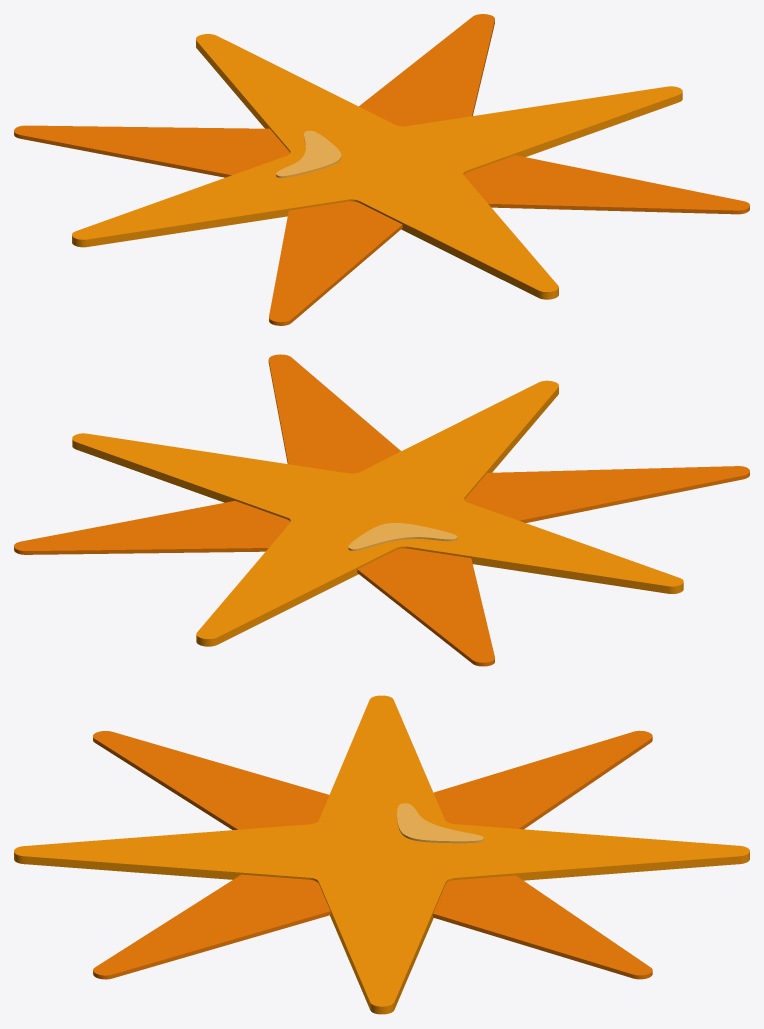
The model's file is emoji_u2734.glb.
3 renders of one model, top to bottom at view 1: azimuth 30°, elevation 25°; view 2: azimuth 150°, elevation 25°; view 3: azimuth 270°, elevation 25°, orthographic. The views are drawn at different scales.
Visible parts, largest first — view 1: emoji_u2734; view 2: emoji_u2734; view 3: emoji_u2734.
Boxes of the visible parts, x1,y1,x2,y2 form: emoji_u2734: (14, 14, 749, 325); emoji_u2734: (14, 354, 749, 666); emoji_u2734: (14, 695, 749, 1014).
Size of the model in its own units: 0.0338 by 0.0006 by 0.0338.
